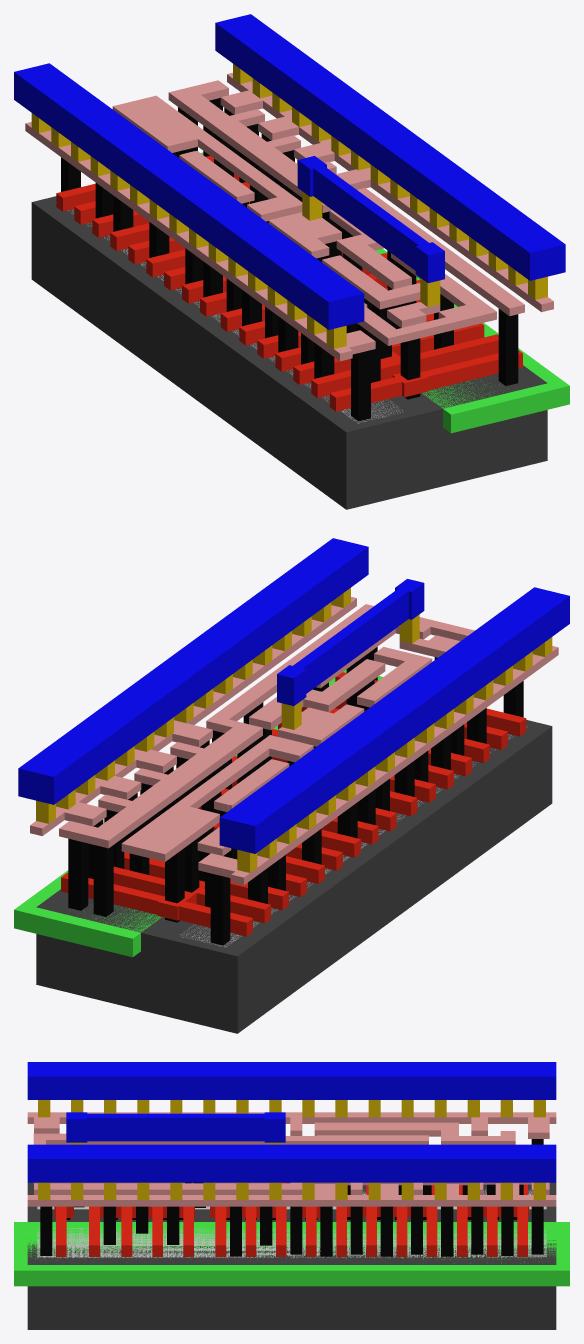
Rendered from sky130_fd_sc_hd__a211oi_4.obj.
The picture shows the model from 3 angles, top to bottom: view 1: azimuth 30°, elevation 25°; view 2: azimuth 150°, elevation 25°; view 3: azimuth 270°, elevation 25°; orthographic projection. The views are drawn at different scales.
Parts seen in each view (by area): view 1: metal1, subs, li, poly, licon, mcon, nwell; view 2: metal1, subs, li, licon, poly, mcon, nwell; view 3: metal1, subs, nwell, li, poly, licon, mcon, tap.
Boxes of the visible parts, x1,y1,x2,y2 form: metal1: (14,14,565,329); subs: (31,196,547,509); li: (25,73,553,361); poly: (56,156,522,411); licon: (61,98,518,421); mcon: (31,64,547,348); nwell: (200,152,569,433); metal1: (18,538,569,853); subs: (36,720,552,1033); li: (30,597,558,885); licon: (68,647,523,945); poly: (61,672,526,936); mcon: (36,588,552,872); nwell: (14,669,383,957); metal1: (27,1062,556,1182); subs: (27,1182,556,1329); nwell: (14,1222,569,1286); li: (27,1112,556,1206); poly: (54,1182,529,1256); licon: (40,1139,543,1256); mcon: (38,1100,545,1199); tap: (37,1228,546,1257).
Bounding box in the file's own units: 3.2 × 2.74 × 7.74.
